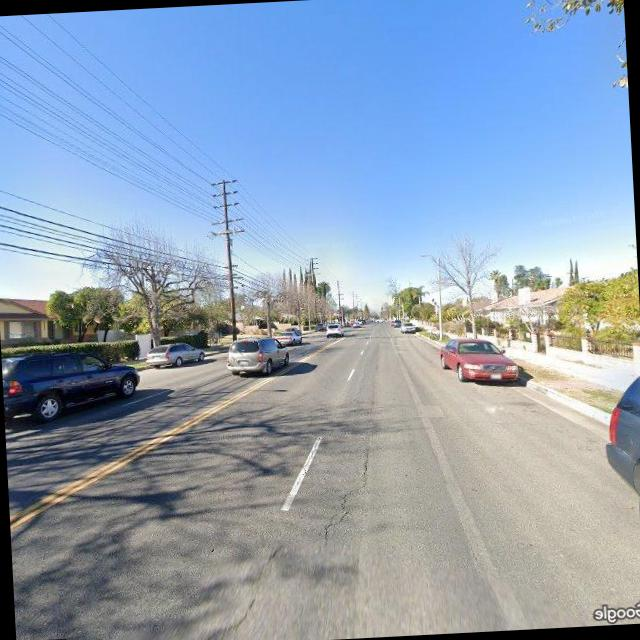crack: (316, 446, 380, 546)
